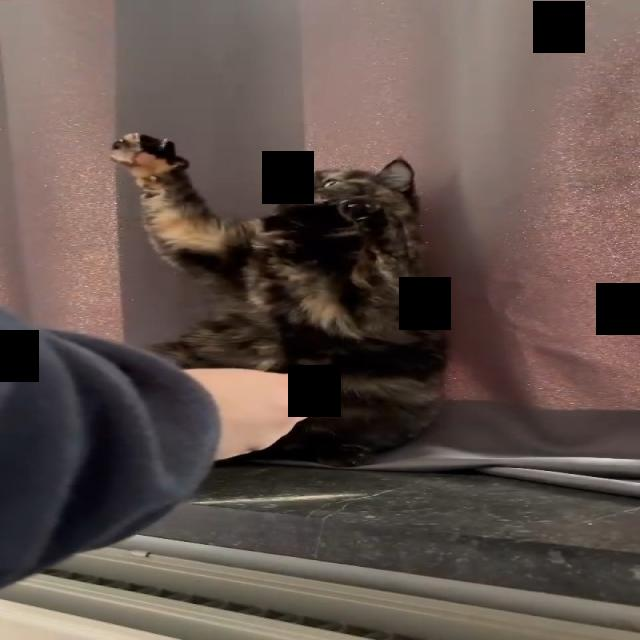authorized: (108, 131, 451, 467)
